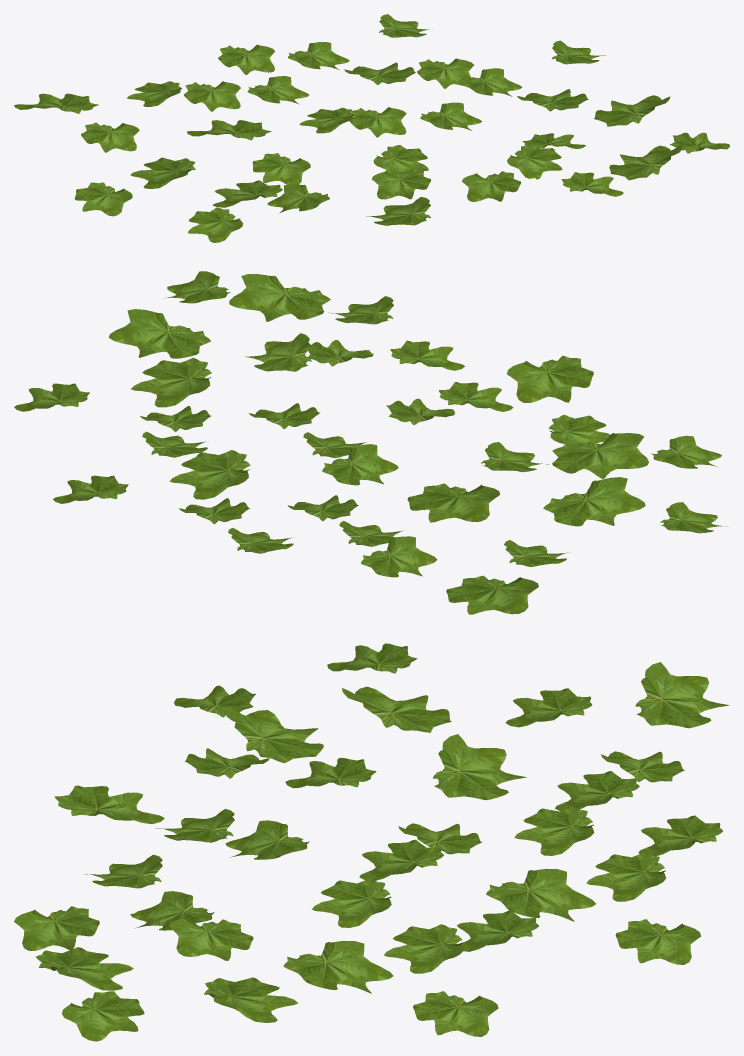
The model's file is Leafs.FBX.
The picture shows the model from 3 angles, top to bottom: view 1: azimuth 30°, elevation 25°; view 2: azimuth 150°, elevation 25°; view 3: azimuth 270°, elevation 25°; orthographic projection. The views are drawn at different scales.
Parts seen in each view (by area): view 1: Leafs; view 2: Leafs; view 3: Leafs.
Boxes of the visible parts, x1,y1,x2,y2 form: Leafs: [14, 14, 729, 242]; Leafs: [14, 271, 726, 614]; Leafs: [14, 643, 729, 1041].
Bounding box in the file's own units: 44.39 × 1.41 × 34.31.
Materials: 1 (1 with a texture image).
